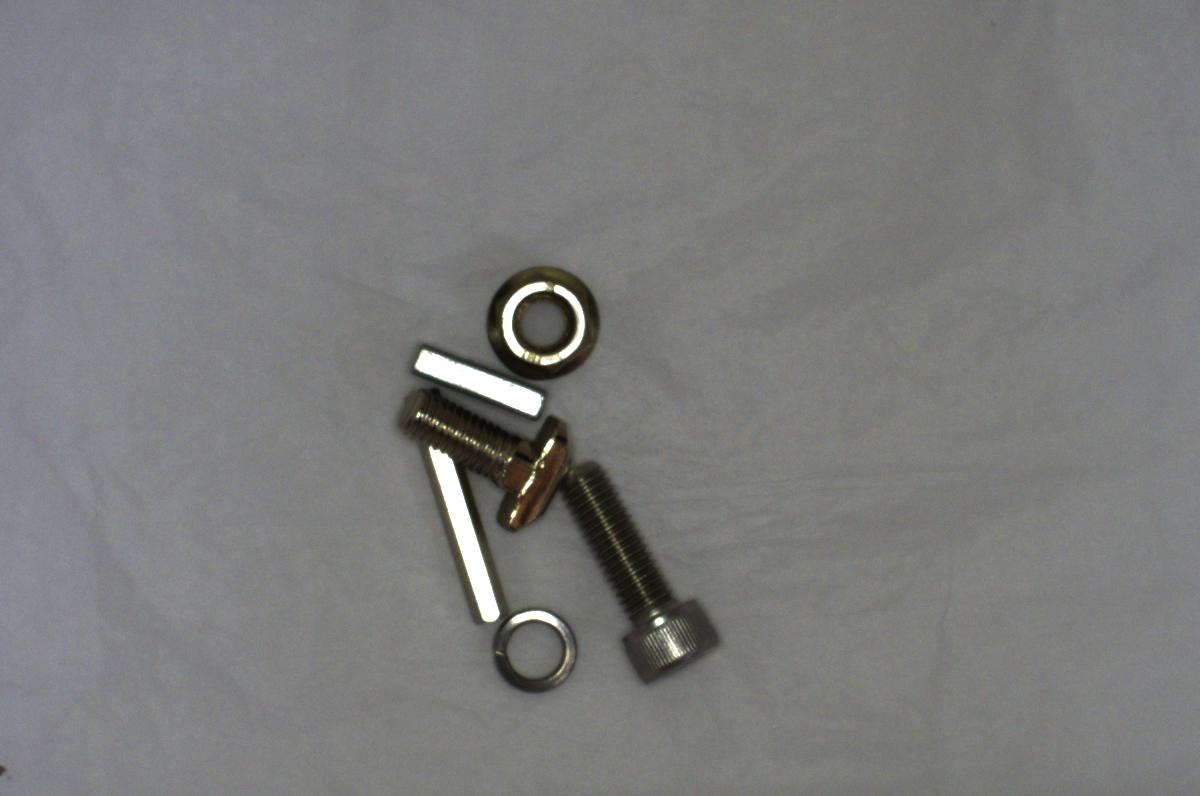Double hexagonal column: (410, 437, 508, 627)
Flange nut: (488, 255, 605, 374)
Hexagon screw: (558, 454, 732, 686)
Rectangular nut: (406, 339, 547, 421)
Spring washer: (488, 603, 580, 694)
T-shaped screw: (389, 382, 575, 524)
